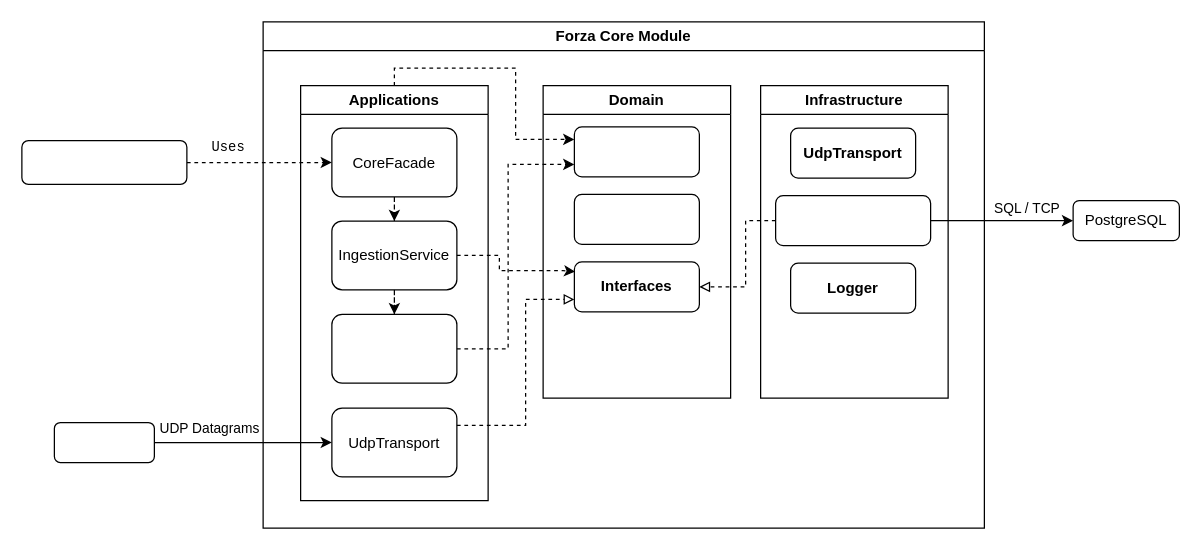
Image size: 1201x550. Some labels were removed from this diagram. Each missing label, with the centre of its shape:
"Events" goes at pixel 636 218.
"Forza Game" goes at pixel 103 441.
"Models" goes at pixel 636 151.
"PacketParser" goes at pixel 394 348.
"PostgresRepository" goes at pixel 852 220.
"UI / Main Application" goes at pixel 104 161.
